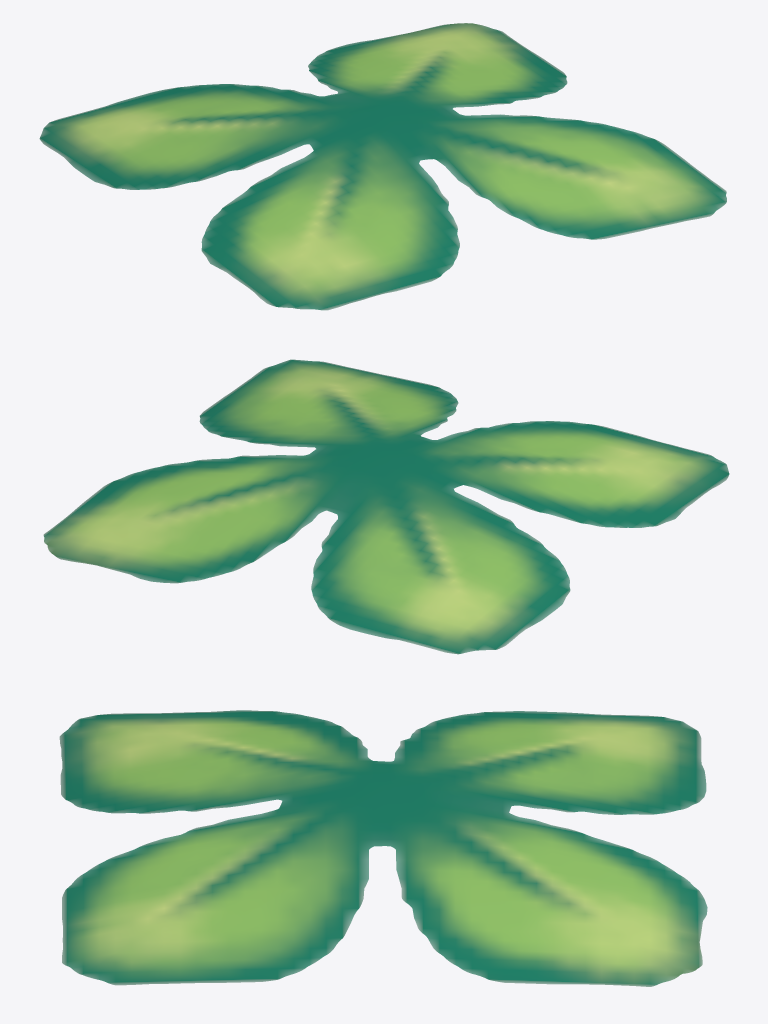
The model's file is M_Flowers.fbx.
3 renders of one model, top to bottom at view 1: azimuth 30°, elevation 25°; view 2: azimuth 150°, elevation 25°; view 3: azimuth 270°, elevation 25°, orthographic. The views are drawn at different scales.
Visible parts, largest first — view 1: M_Flowers; view 2: M_Flowers; view 3: M_Flowers.
Boxes of the visible parts, <box> form: M_Flowers: <box>39,23,726,310</box>; M_Flowers: <box>43,359,729,654</box>; M_Flowers: <box>59,710,707,986</box>.
Size of the model in its own units: 0.1859 by 0.1859 by 0.0192.
1 material, 1 textured.
